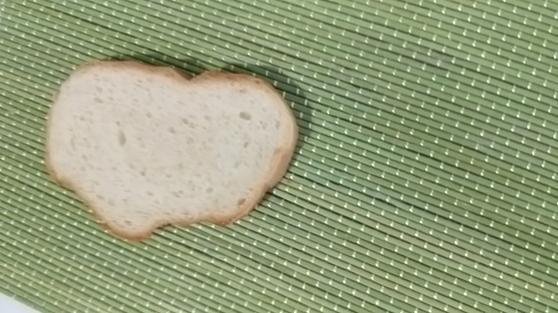white_bread: (36, 58, 302, 240)
